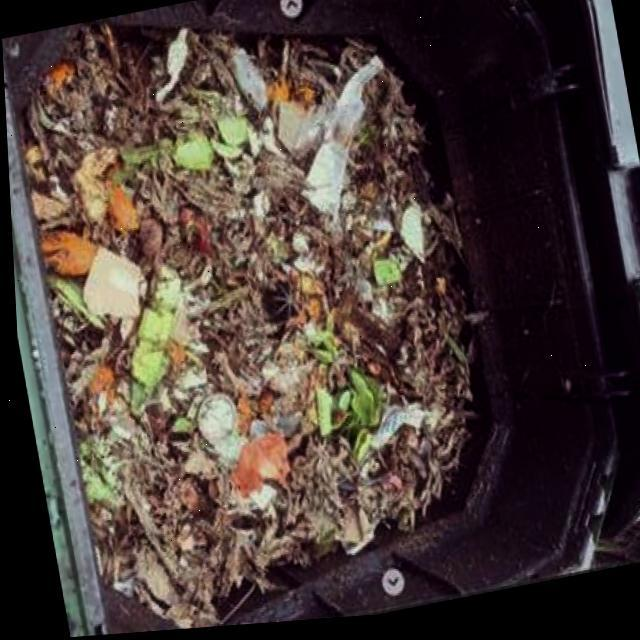Garbage: (18, 22, 469, 630)
Plastic_Bag: (300, 61, 382, 220)
